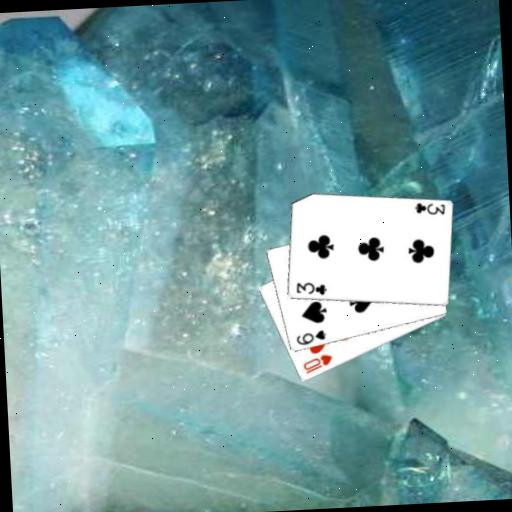10H: (299, 351, 334, 376)
3C: (293, 278, 329, 298), (411, 199, 446, 218)
6S: (293, 328, 328, 348)
